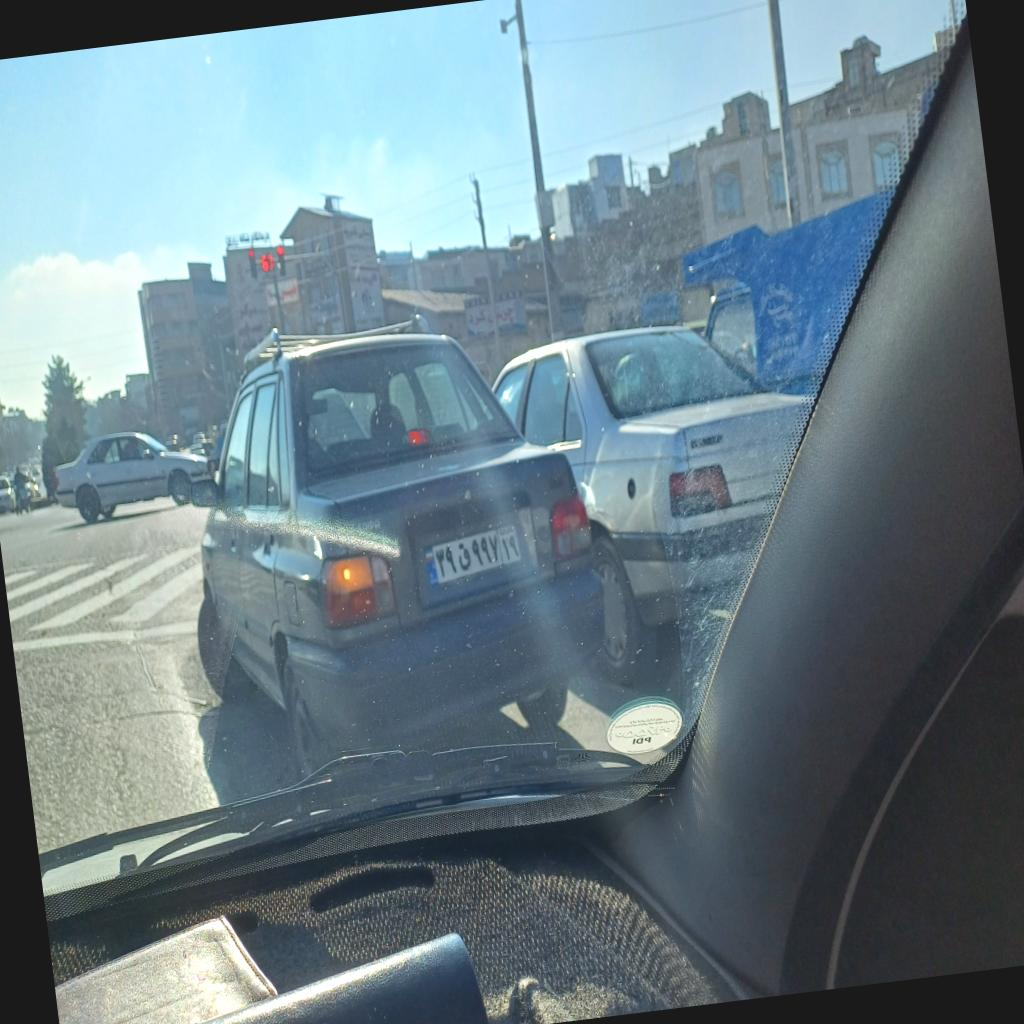Plates: (418, 518, 527, 592)
